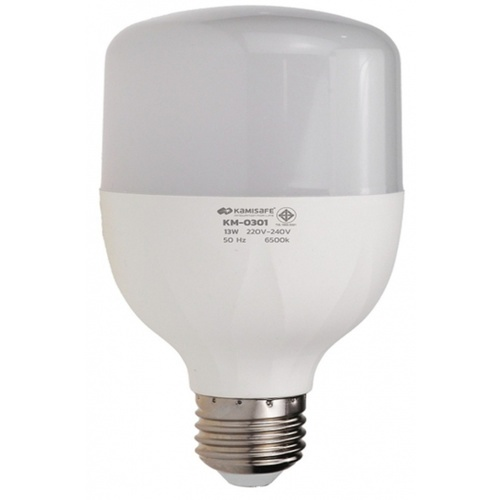Light_bulb: (92, 4, 409, 498)
